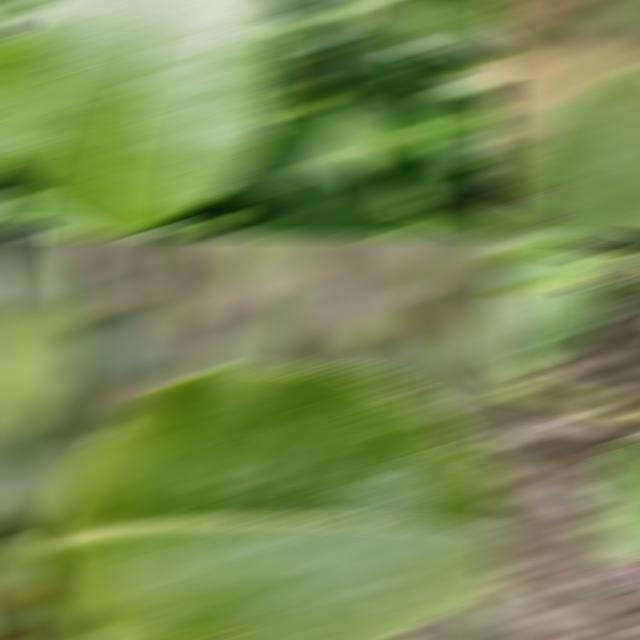Leaf: (38, 367, 508, 638), (0, 2, 289, 234), (327, 15, 491, 191), (490, 68, 640, 234), (230, 151, 448, 234), (0, 387, 92, 526), (490, 288, 619, 378), (0, 309, 84, 434), (588, 436, 640, 584), (66, 317, 173, 377), (490, 246, 625, 287), (0, 238, 68, 306), (0, 199, 97, 234), (490, 238, 640, 259), (0, 542, 40, 610), (225, 238, 281, 272)
